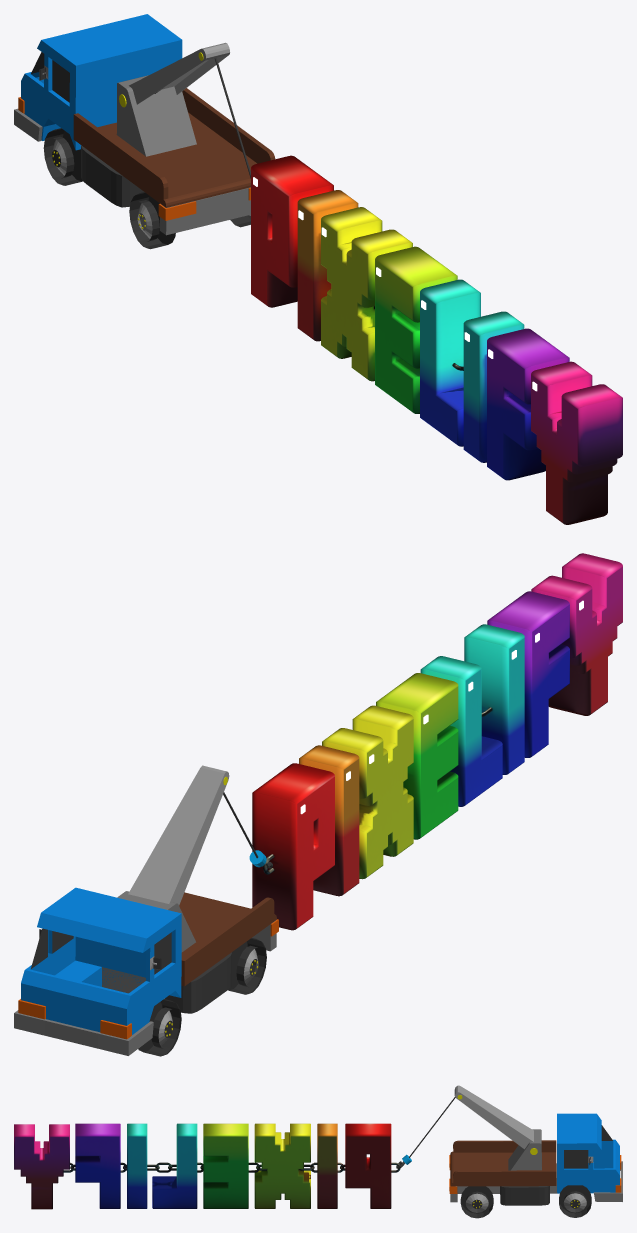
The model's file is truck.glb.
3 views of the same model, one above another, from view 1: azimuth 30°, elevation 25°; view 2: azimuth 150°, elevation 25°; view 3: azimuth 270°, elevation 25° (orthographic). The views are drawn at different scales.
Parts seen in each view (by area): view 1: Text.003, truck, Plane.033, Text.002, Cube.004, Cube.003, Plane.029, Cube.005, tire_01, tire_03; view 2: Text.003, truck, Text.002, Cube.003, Plane.033, Plane.035, Cube.005, tire_03, tire_01, Plane.029, Plane.034, Cube.004; view 3: Text.003, truck, Plane.033, Text.002, Cube.003, Cube.005, tire_02, tire_04, Cube.004, Torus.016, Plane.035, Plane.029.
Part boxes in pixels (x1,y1,x2,y2): Text.003: (297,190,622,524); truck: (21,14,182,150); Plane.033: (73,88,275,207); Text.002: (251,155,333,307); Cube.004: (116,75,196,156); Cube.003: (129,42,230,104); Plane.029: (160,187,250,235); Cube.005: (81,145,143,207); tire_01: (43,128,82,185); tire_03: (129,192,175,249); Text.003: (299,553,622,896); truck: (21,887,181,1034); Text.002: (252,763,334,930); Cube.003: (128,765,229,905); Plane.033: (179,892,276,986); Plane.035: (14,1010,153,1055); Cube.005: (165,952,231,1013); tire_03: (228,938,266,994); tire_01: (138,999,181,1056); Plane.029: (102,920,276,998); Plane.034: (18,999,131,1039); Cube.004: (117,891,195,952); Text.003: (14,1123,337,1209); truck: (557,1113,619,1193); Plane.033: (450,1140,556,1186); Text.002: (345,1123,391,1208); Cube.003: (454,1085,533,1149); Cube.005: (500,1186,549,1205); tire_02: (559,1185,591,1217); tire_04: (460,1186,493,1218); Cube.004: (508,1129,541,1170); Torus.016: (63,1162,400,1172); Plane.035: (593,1161,622,1201); Plane.029: (450,1163,557,1202).
Size of the model in its own units: 2.57 by 4.06 by 19.37.
Materials: 20 (8 with a texture image).
